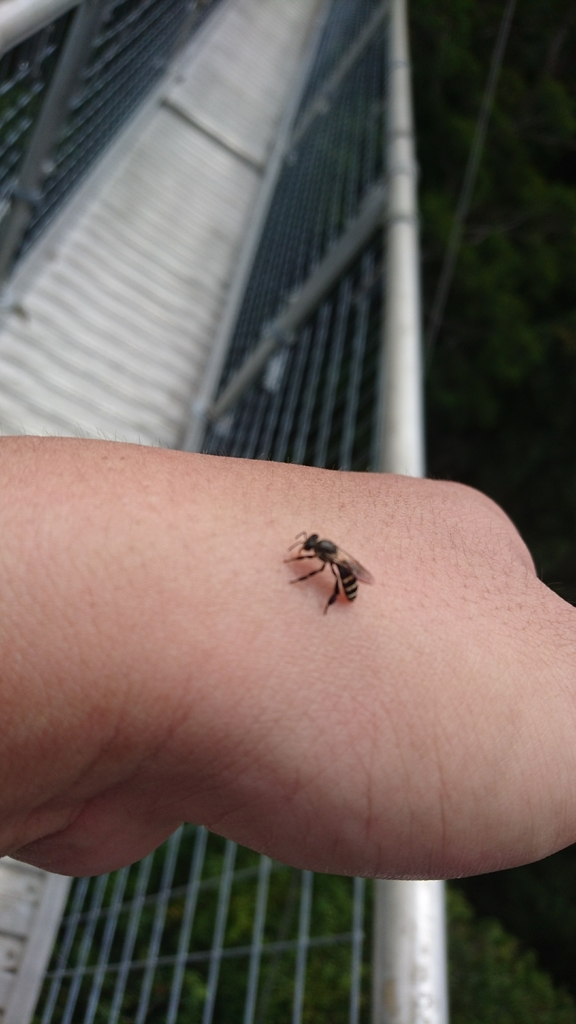not_bumblebee: (281, 527, 377, 619)
